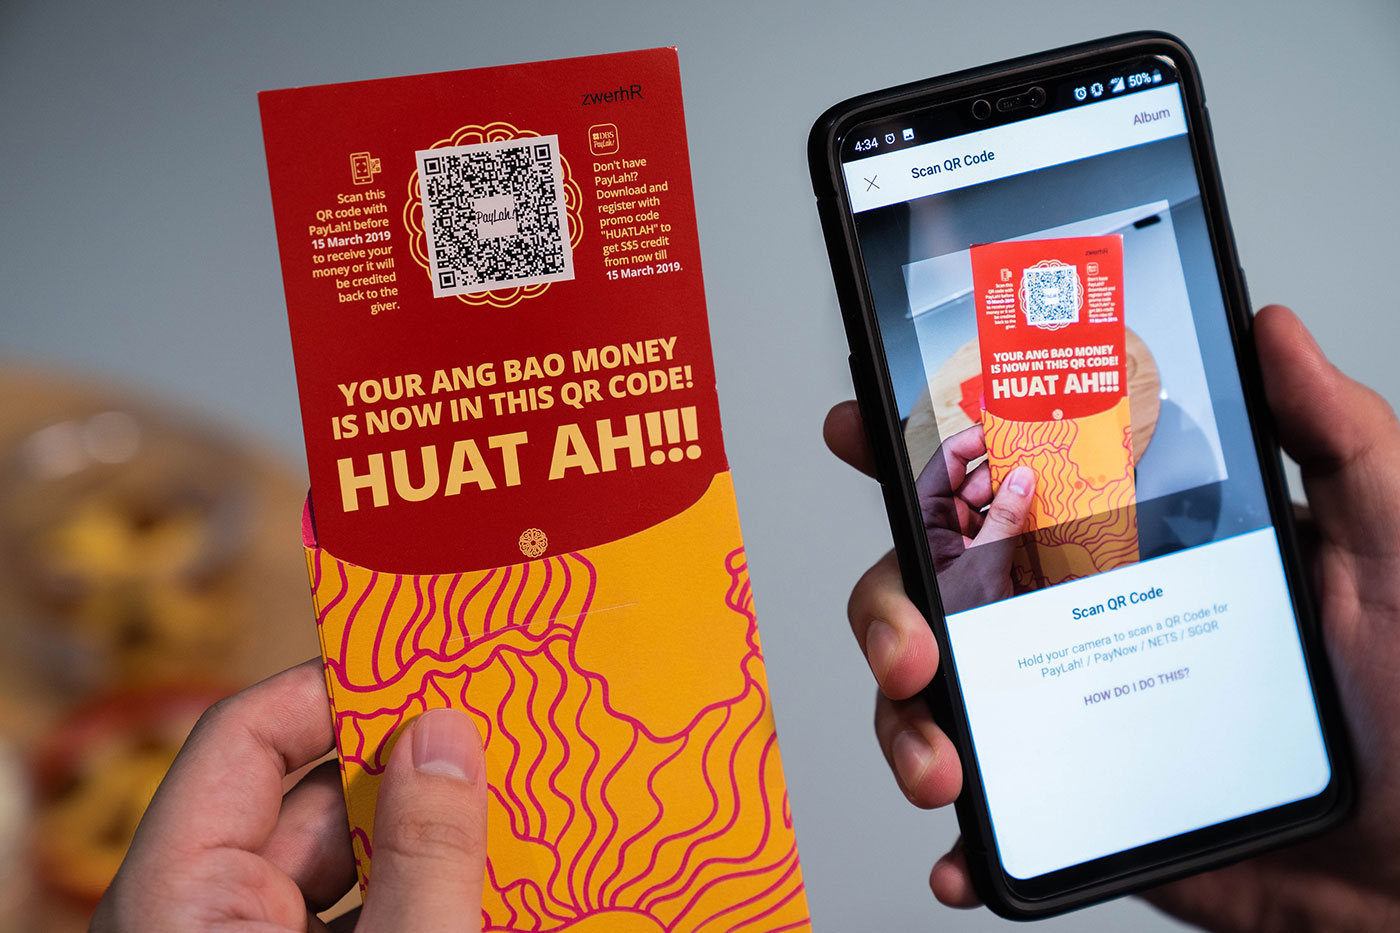qr_code: (406, 135, 579, 297)
